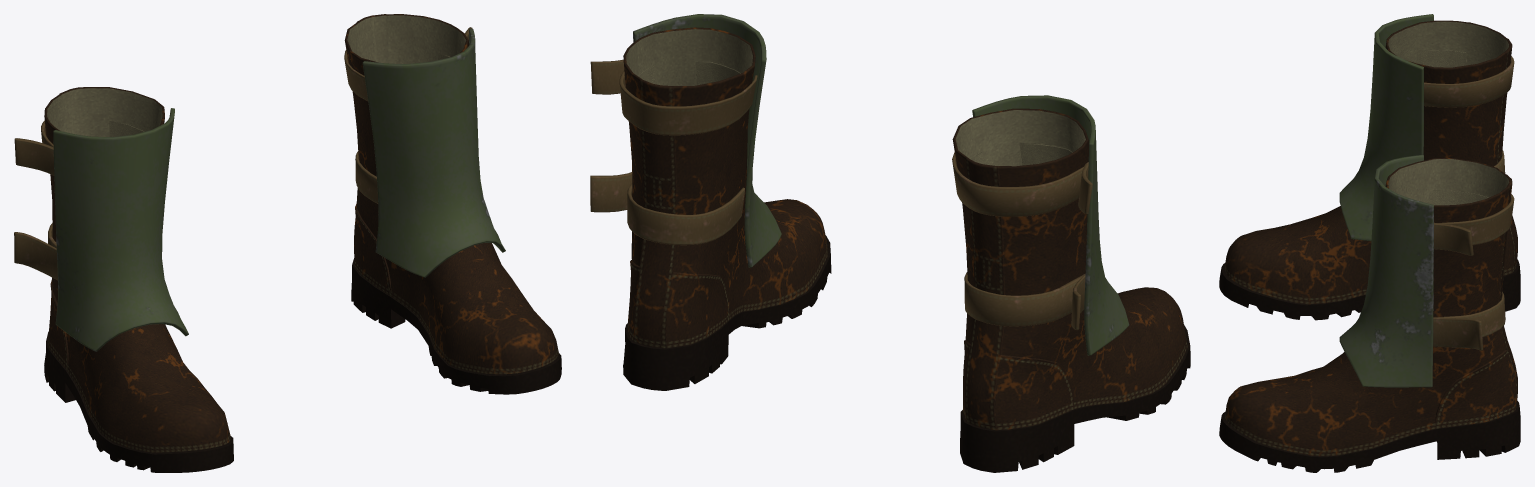
File: warhammer_40k_-_cadian_troopers_boots.glb
The picture shows the model from 3 angles, left to right: view 1: azimuth 30°, elevation 25°; view 2: azimuth 150°, elevation 25°; view 3: azimuth 270°, elevation 25°; orthographic projection. The views are drawn at different scales.
Parts seen in each view (by area): view 1: buty.010; view 2: buty.010; view 3: buty.010.
Part boxes in pixels (x1,y1,x2,y2): buty.010: [14, 14, 561, 472]; buty.010: [590, 14, 1190, 472]; buty.010: [1219, 14, 1520, 472].
Bounding box in the file's own units: 0.6245 × 0.3741 × 0.3794.
1 material, 1 textured.
